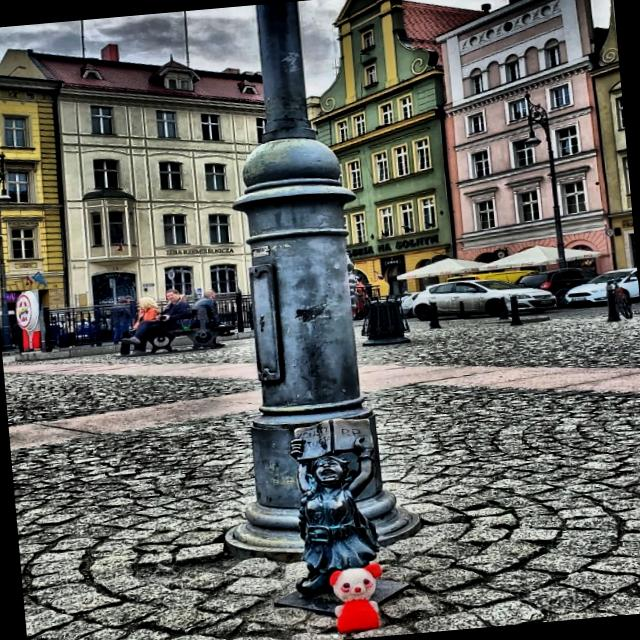Demokracja: (289, 419, 379, 594)
